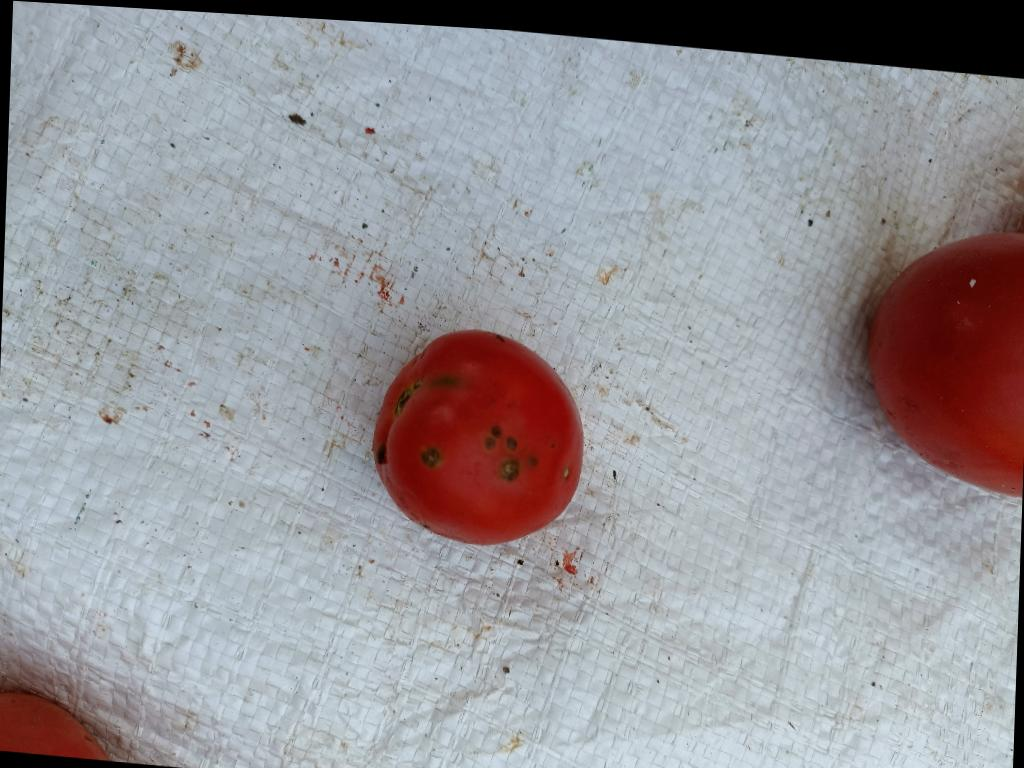bruise_discoloration: (429, 376, 460, 387)
rot_mold_decay: (500, 458, 519, 481), (421, 447, 441, 467), (376, 443, 387, 464), (506, 437, 517, 450), (485, 437, 496, 449), (491, 426, 501, 438), (530, 457, 538, 466)
tomato: (373, 330, 583, 544)
